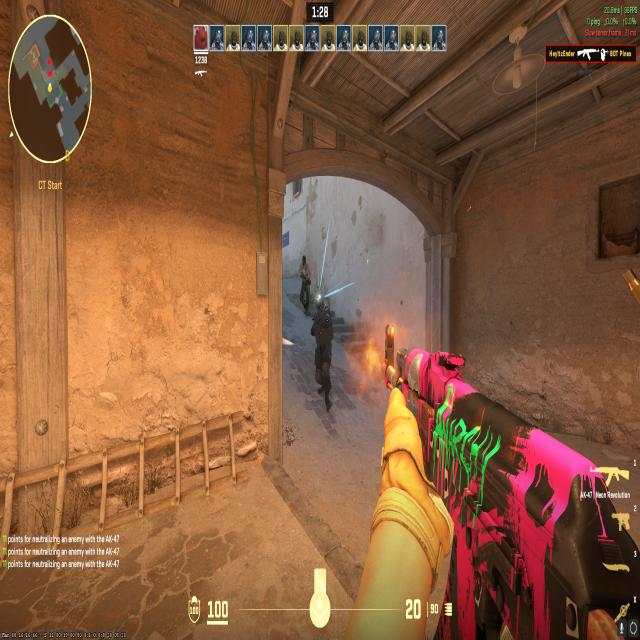ct: (308, 283, 338, 414)
t: (295, 248, 312, 314)
